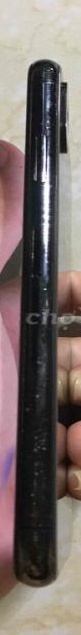scratch: (39, 70, 56, 146), (23, 423, 52, 458), (30, 274, 54, 305), (27, 464, 50, 490), (24, 538, 51, 555), (23, 494, 48, 511), (30, 385, 44, 407), (33, 520, 44, 536)
